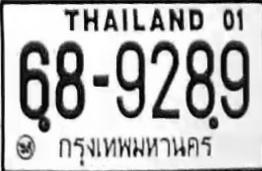2: (150, 40, 178, 119)
6: (18, 40, 50, 121)
8: (184, 40, 214, 118), (55, 40, 84, 118)
9: (115, 40, 144, 118), (220, 40, 248, 118)
BKK: (53, 131, 219, 168)
